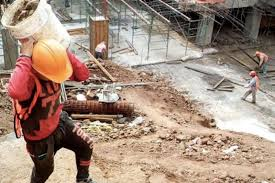casco: (30, 38, 74, 83), (249, 70, 256, 77)
